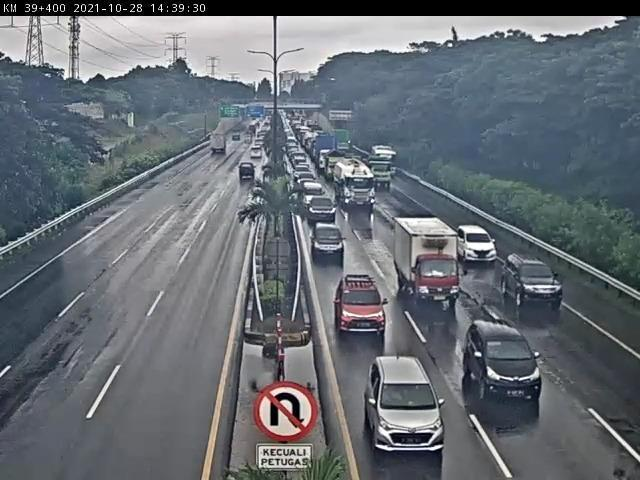car: (364, 352, 451, 463), (466, 321, 549, 405), (501, 249, 565, 309), (332, 272, 392, 335), (452, 218, 496, 264), (311, 215, 348, 264), (310, 198, 336, 225), (302, 184, 325, 208), (239, 162, 256, 180)
truck: (390, 219, 469, 316), (333, 159, 377, 212), (367, 151, 396, 191)
